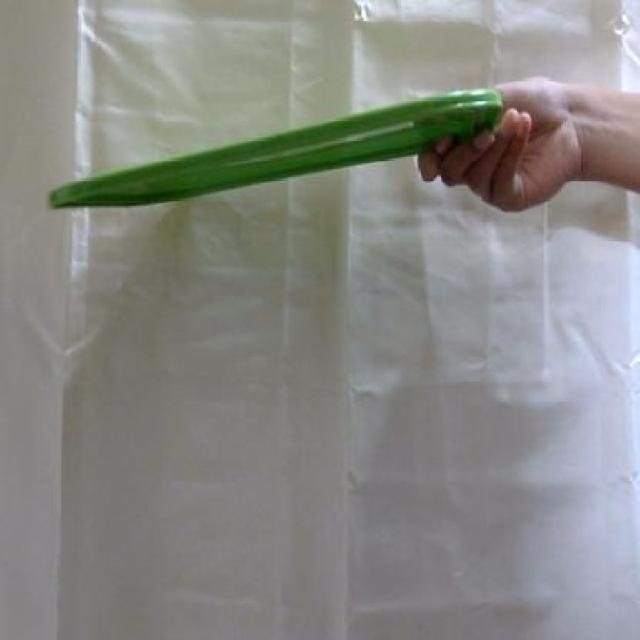Plastic: (46, 87, 504, 210)
